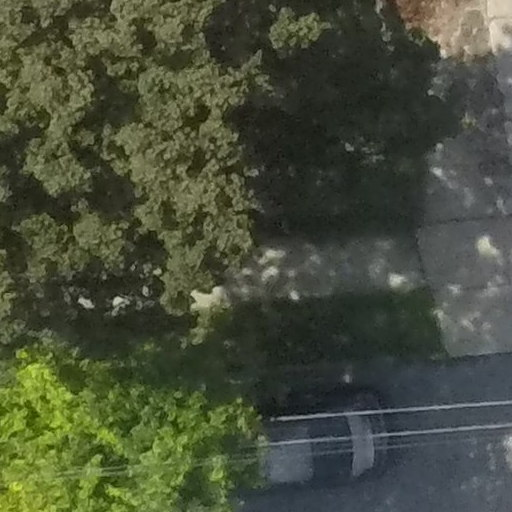car: (218, 384, 421, 503)
